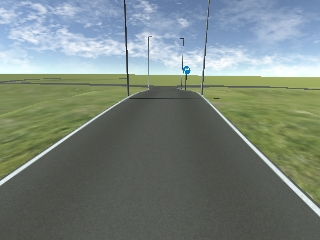right: (181, 65, 190, 74)
